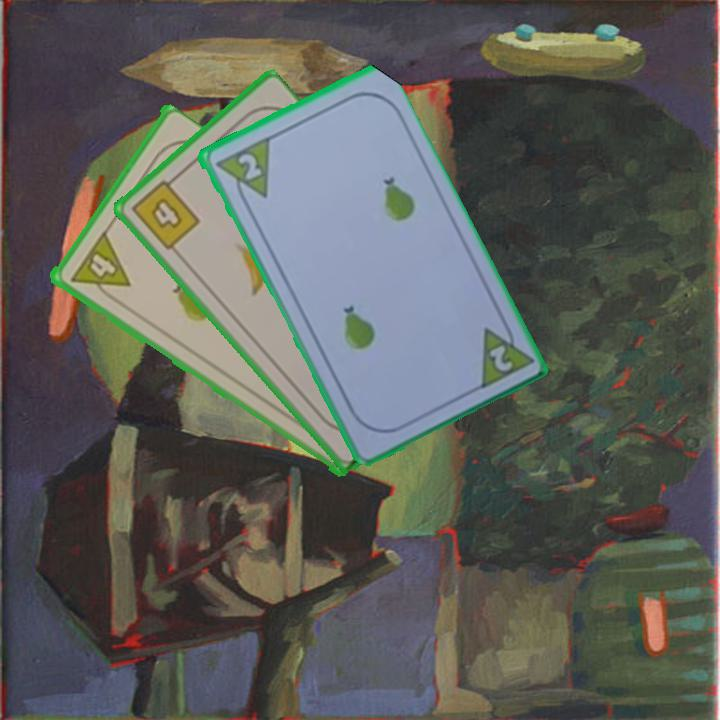2p: (233, 149, 264, 183), (484, 341, 515, 375)
4b: (127, 172, 203, 253)
4p: (66, 229, 132, 306)
